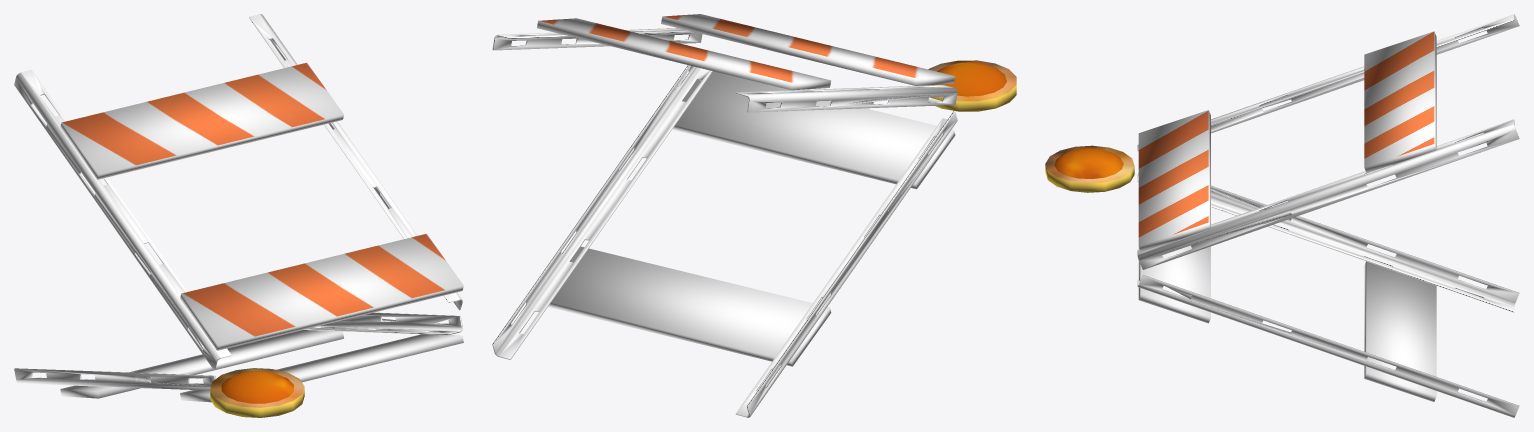
File: zataras.fbx
3 renders of one model, left to right at view 1: azimuth 30°, elevation 25°; view 2: azimuth 150°, elevation 25°; view 3: azimuth 270°, elevation 25°, orthographic. The views are drawn at different scales.
Parts seen in each view (by area): view 1: zateras; view 2: zateras; view 3: zateras.
Part boxes in pixels (box(x1,y1,x2,y2)): zateras: box(14, 14, 463, 417); zateras: box(492, 14, 1016, 417); zateras: box(1045, 14, 1519, 417).
Bounding box in the file's own units: 3.26 × 3.55 × 5.2.
3 materials, 3 textured.
